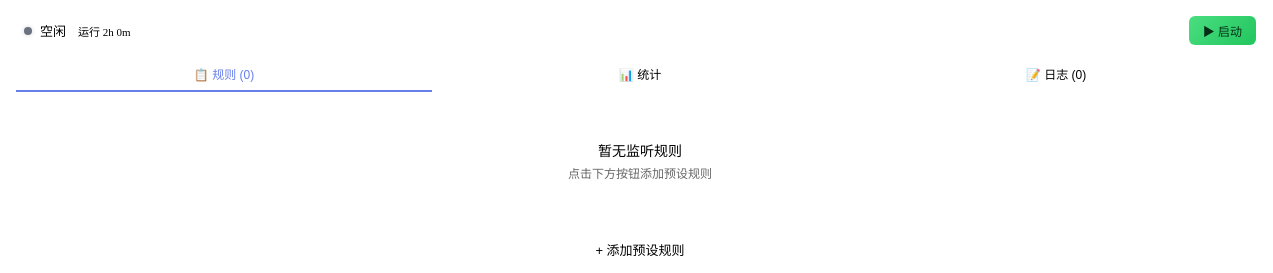
Test: WatchPanel › 统计信息显示 › 有统计数据时应该显示运行时长
This screenshot has width=1273, height=273.
Click the button "📊 统计" at (640, 74), box left=432, top=57, right=848, bottom=92
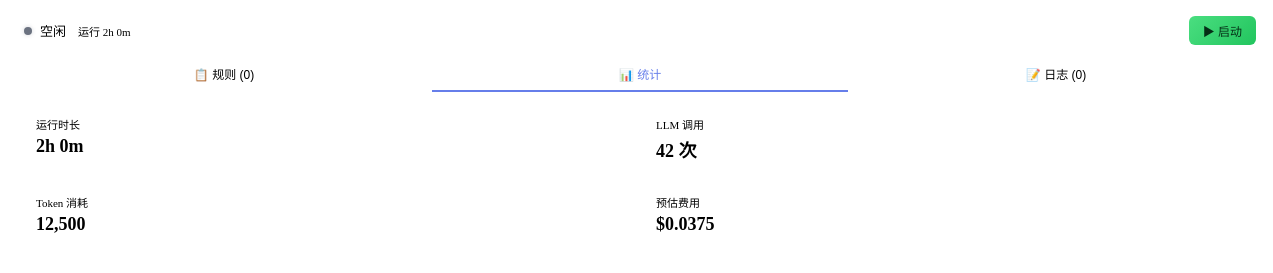
Now the text "运行时长" is shown, box left=36, top=119, right=80, bottom=131
Now the text "2h 0m" is shown, box left=36, top=136, right=84, bottom=156
